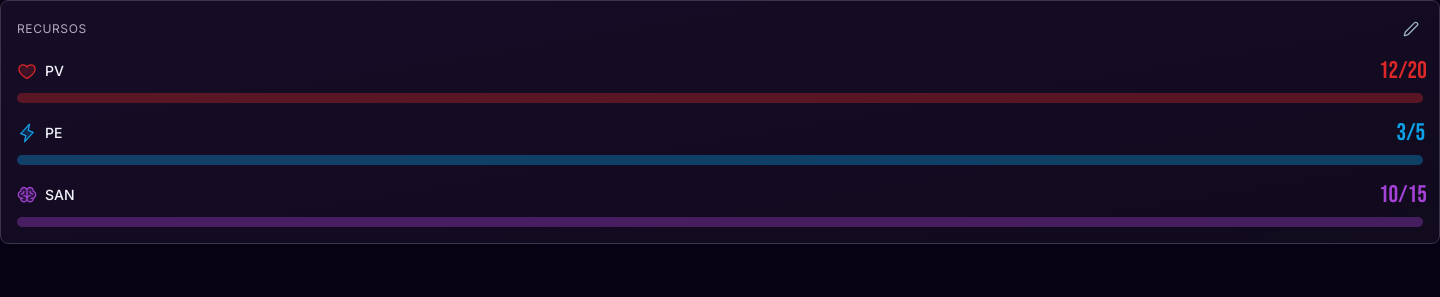
Test: Confirmação de recursos: card mobile › rejeita PE inválido  sem salvar nem truncar
Click the button named "Editar recursos" at (1411,29), box [1399,17,1423,41]
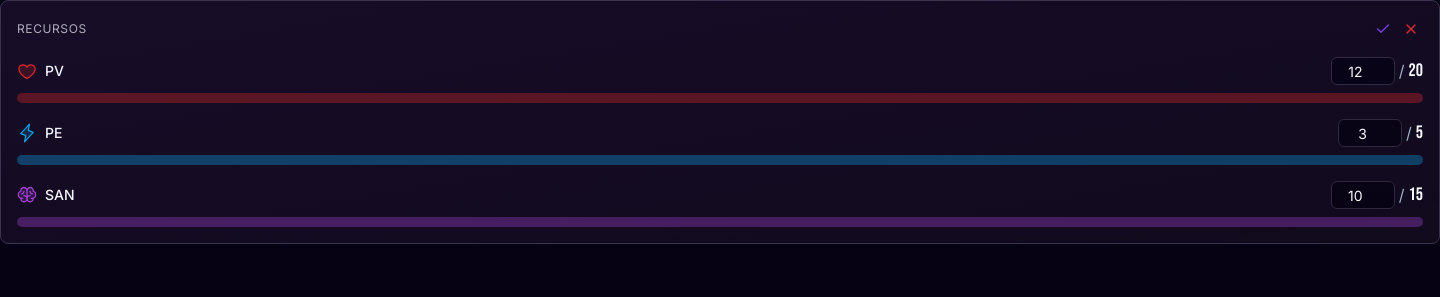
Clear the number field named "PE atual" at (1370,133), box [1338,119,1402,147]
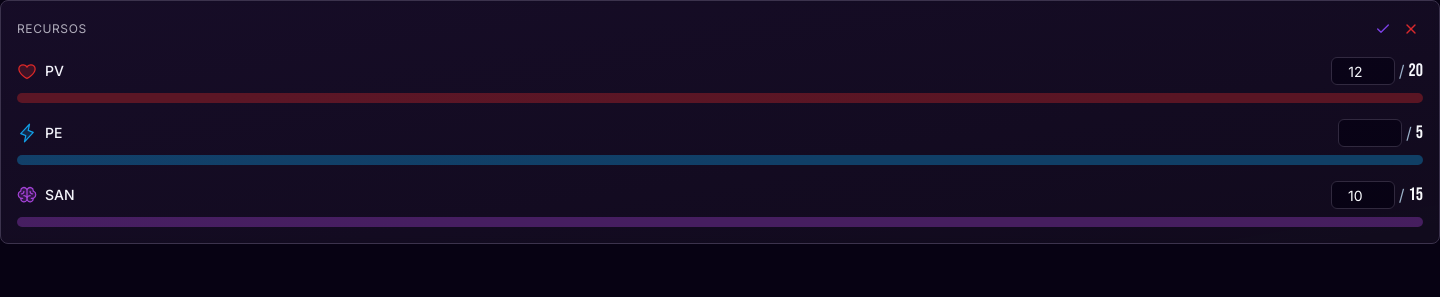
Click the button named "Salvar recursos" at (1383,29), box [1371,17,1395,41]
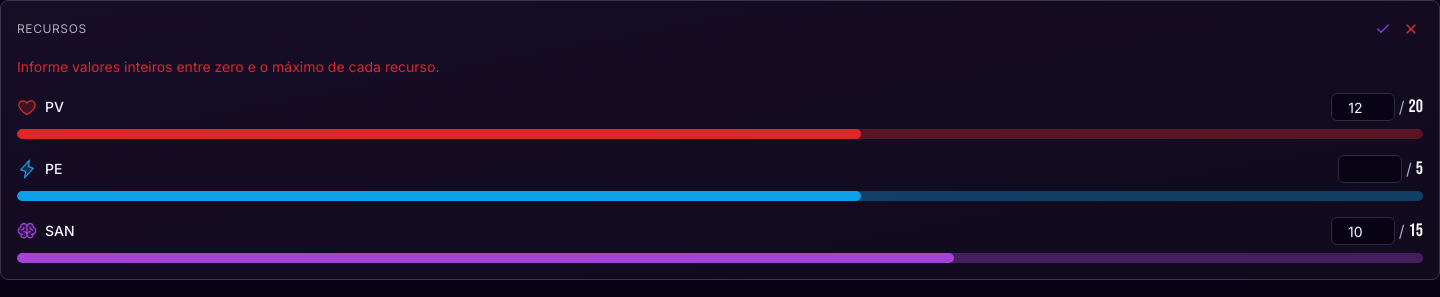
Check: the message shows "valores inteiros", box [17,58,440,75]
